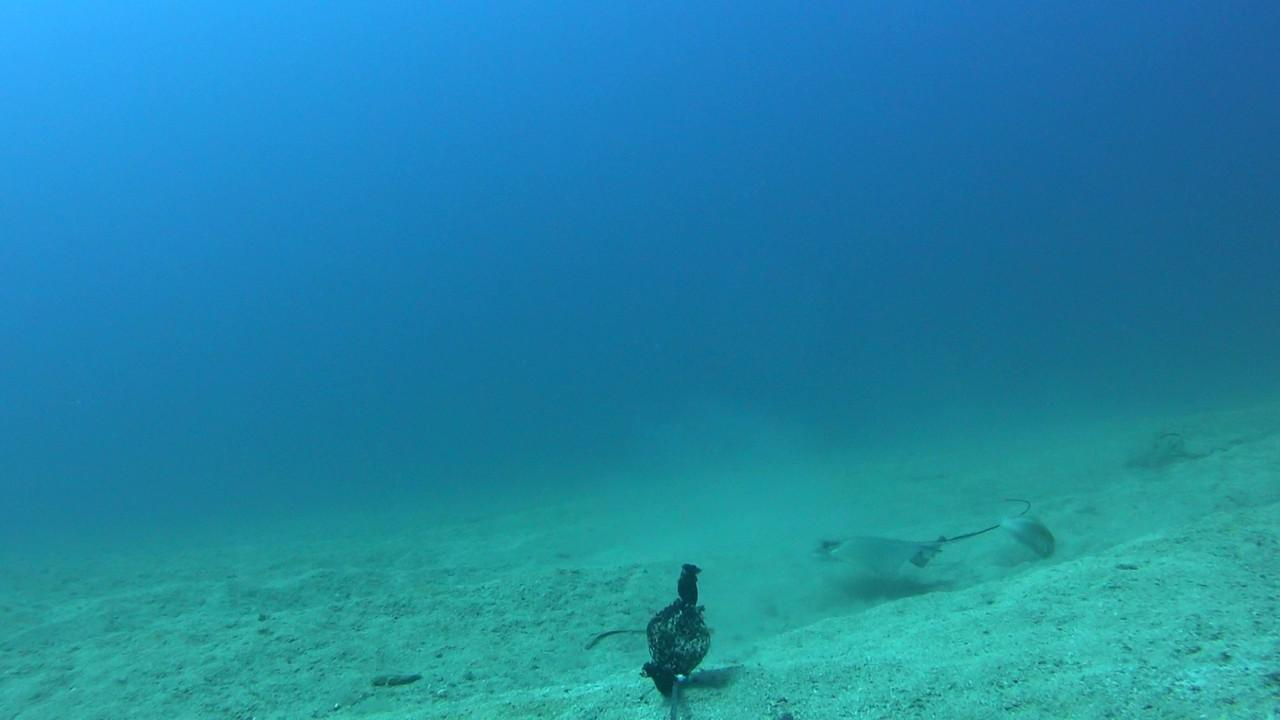myliobatis: (781, 481, 1039, 592)
raor: (1002, 517, 1058, 562)
